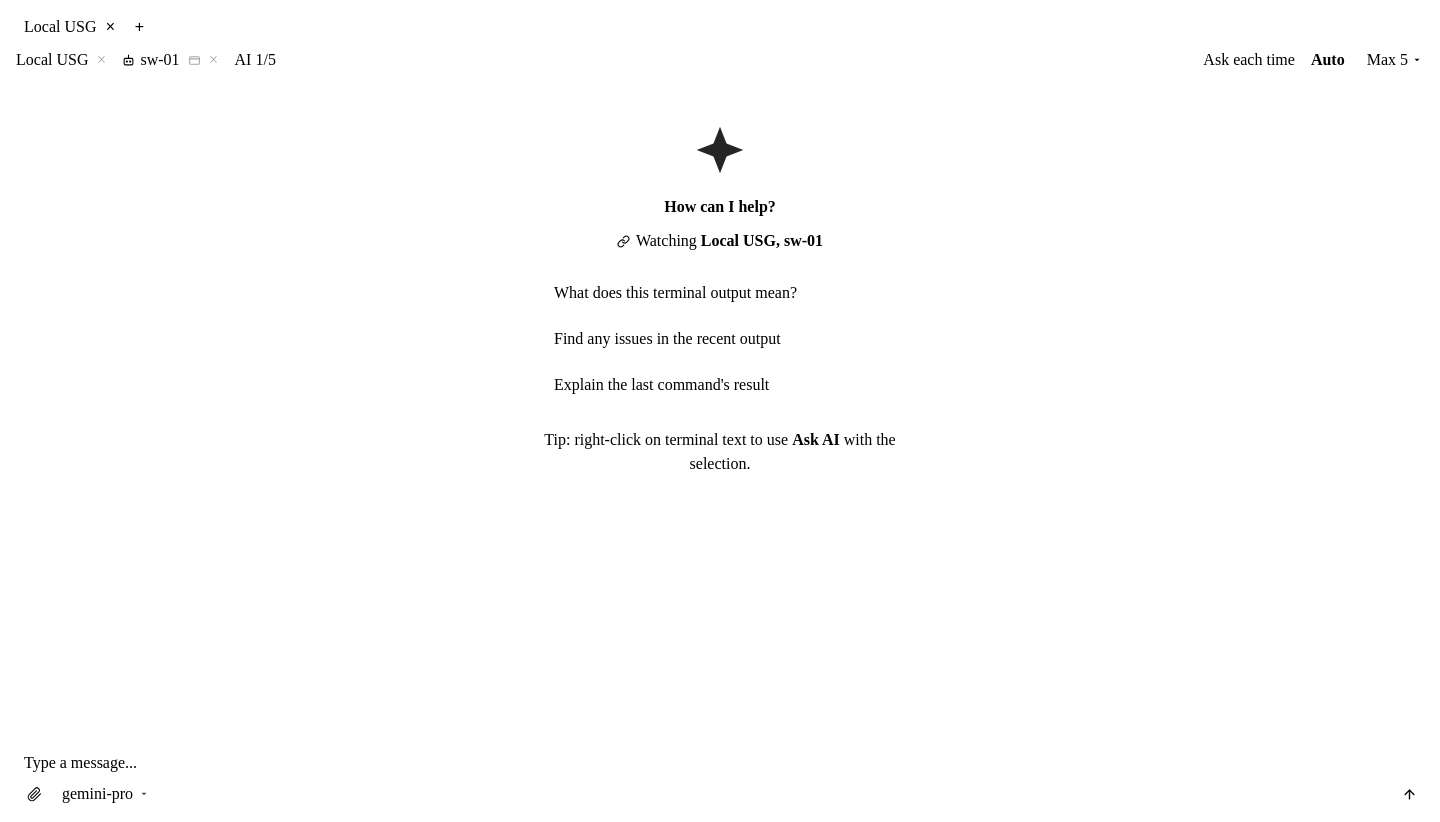
it: AIChatPane connect — tray and target safety › labels a command targeted at a worker as an AI session
In the text box with placeholder "Type a message...": coordinates (721, 762) [20,748,1422,776], type "check"
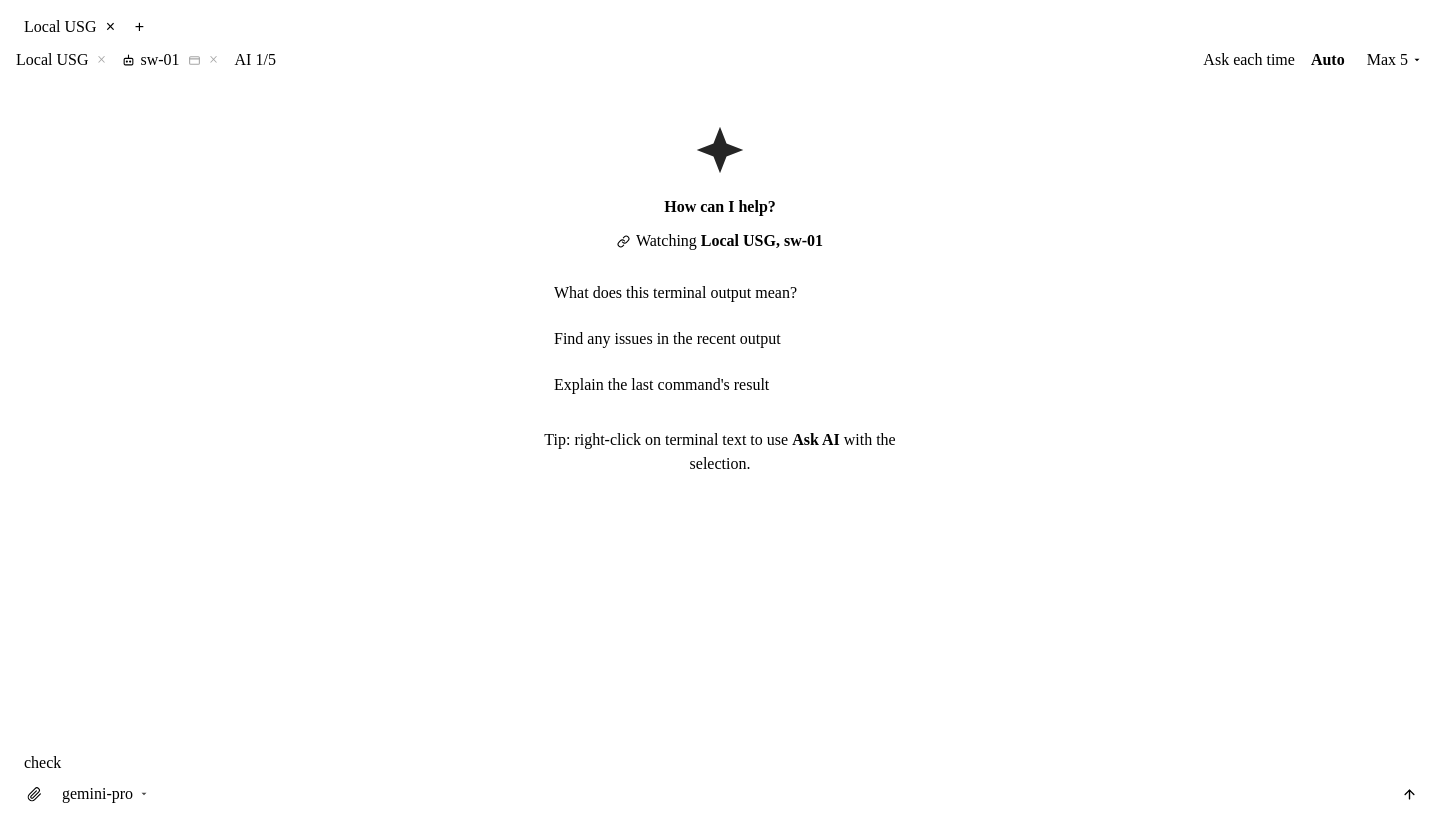
Press Enter in the text box with placeholder "Type a message...", box [20,748,1422,776]
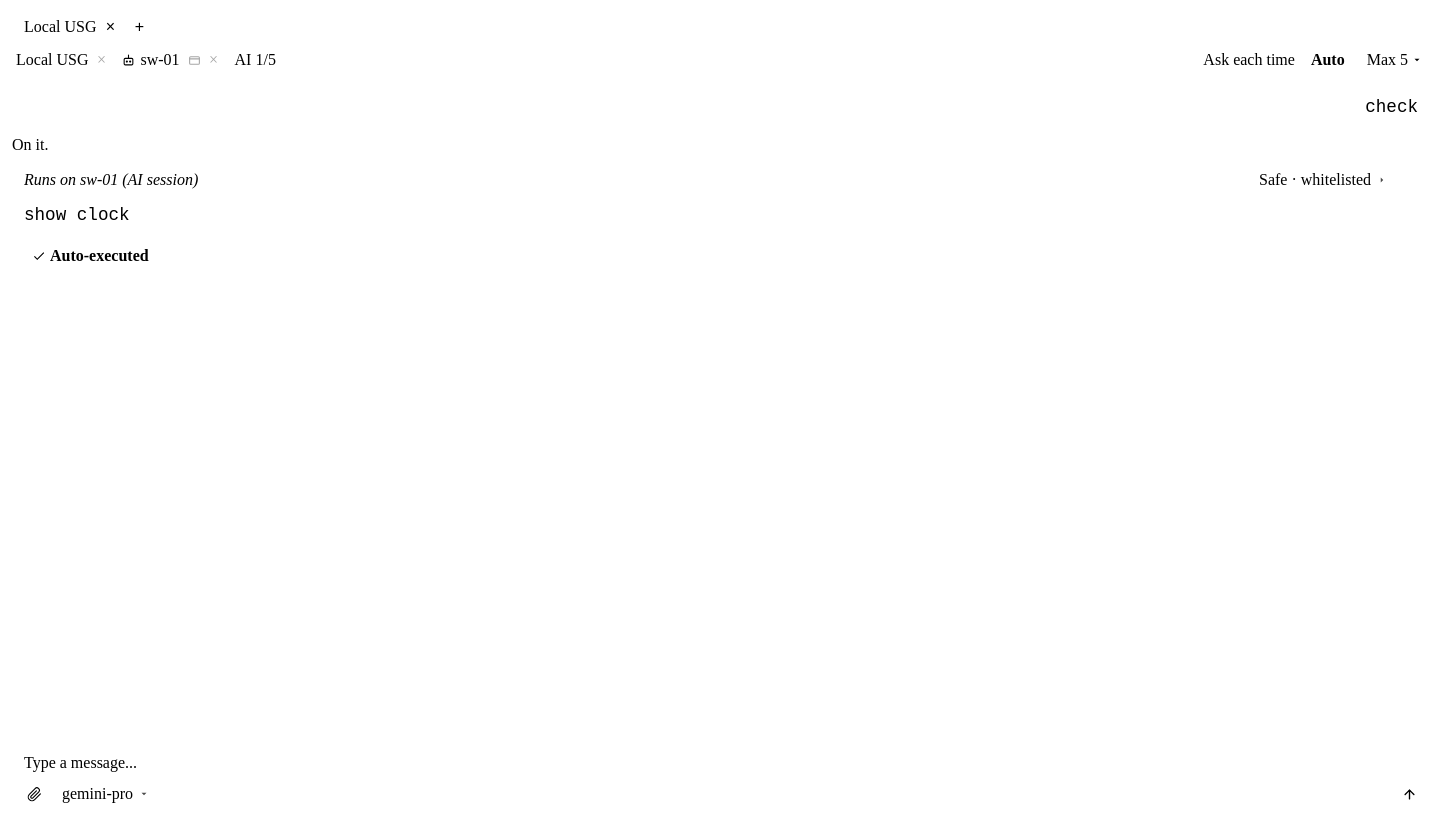
Check: the text "Runs on sw-01 (AI session)" is shown, box [24,170,198,190]
